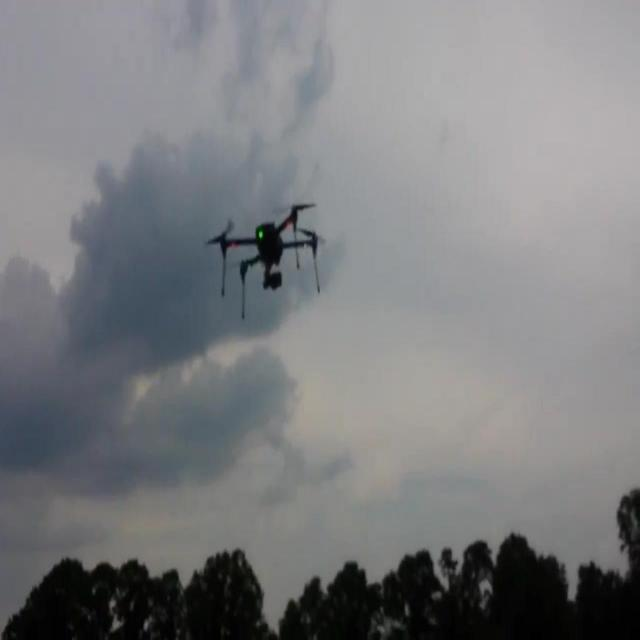UAV: (206, 203, 326, 320)
